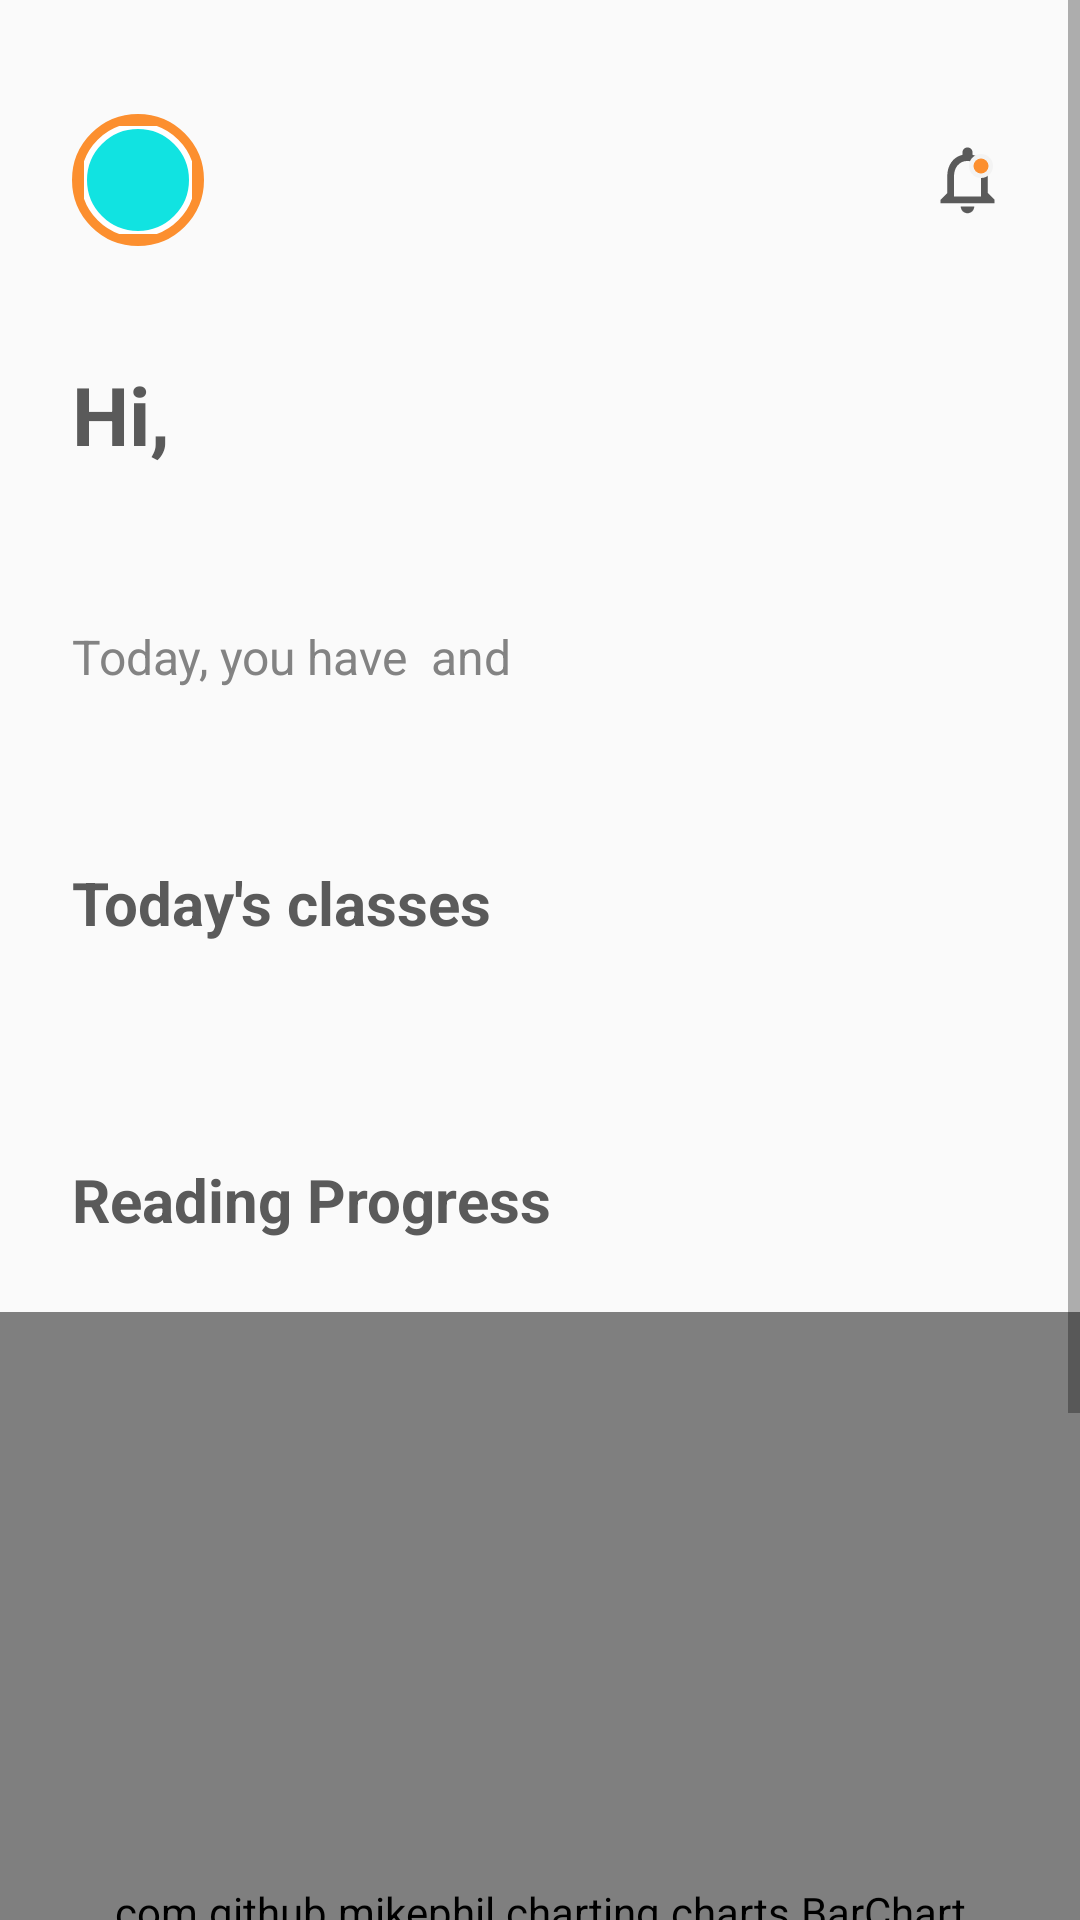

Icons on this 1080x1920 Android screen, each with the point to tap as (x=x, y=y):
notifications: (x=967, y=180)
